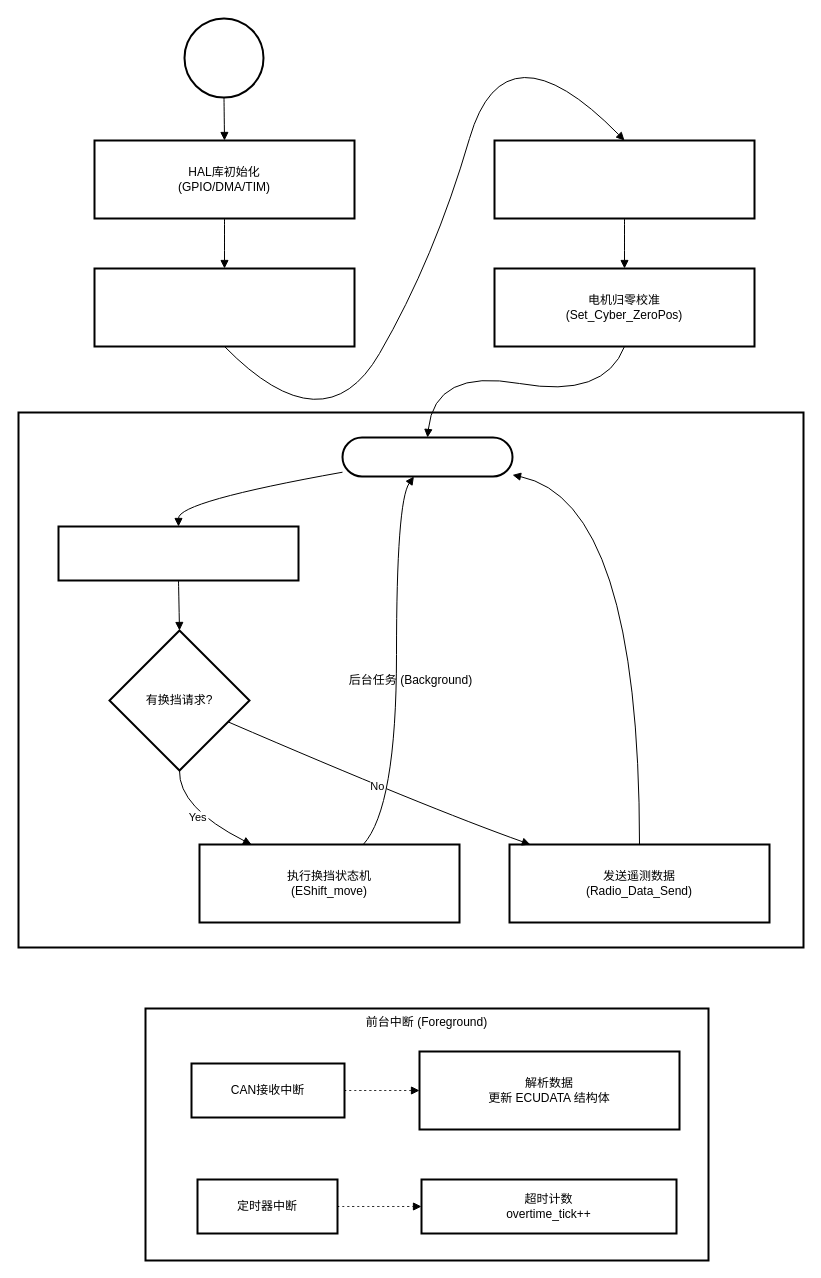
Image size: 821x1278. Some labels were removed from this diagram. Here are the shapes that lost their labels. From the top down, the box of each, then its label:
(183, 17, 264, 98): 上电复位
(493, 139, 755, 219): 配置CAN滤波器 (开启CAN1 & CAN2)
(93, 267, 355, 347): 延时2000ms (等待ECU与电机稳定)
(341, 436, 513, 477): 进入主循环 While(1)
(57, 525, 299, 581): 按键扫描 (Key_Scanner)
